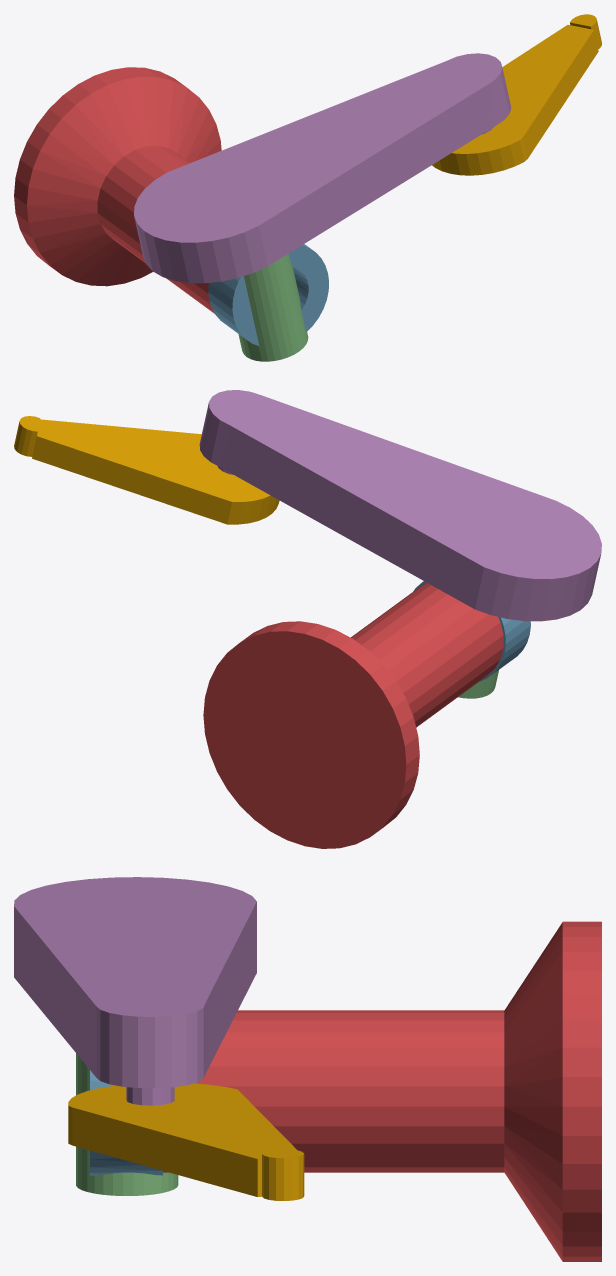
3 renders of one model, top to bottom at view 1: azimuth 30°, elevation 25°; view 2: azimuth 150°, elevation 25°; view 3: azimuth 270°, elevation 25°, orthographic. The views are drawn at different scales.
Parts seen in each view (by area): view 1: g3, g0, g4, g2, g1; view 2: g0, g3, g4, g1; view 3: g0, g3, g4, g2, g1.
Part boxes in pixels (x1=…): g3: x1=134, y1=53, x2=511, y2=283; g0: x1=14, y1=67, x2=221, y2=313; g4: x1=432, y1=14, x2=601, y2=175; g2: x1=238, y1=253, x2=308, y2=361; g1: x1=208, y1=244, x2=328, y2=345; g0: x1=203, y1=582, x2=503, y2=848; g3: x1=199, y1=390, x2=601, y2=621; g4: x1=14, y1=416, x2=279, y2=524; g1: x1=413, y1=581, x2=530, y2=681; g0: x1=163, y1=921, x2=601, y2=1261; g3: x1=14, y1=877, x2=256, y2=1105; g4: x1=68, y1=1083, x2=304, y2=1200; g2: x1=76, y1=1053, x2=178, y2=1195; g1: x1=90, y1=1070, x2=162, y2=1175.
Bounding box in the file's own units: 1.9 × 0.9616 × 1.27.
